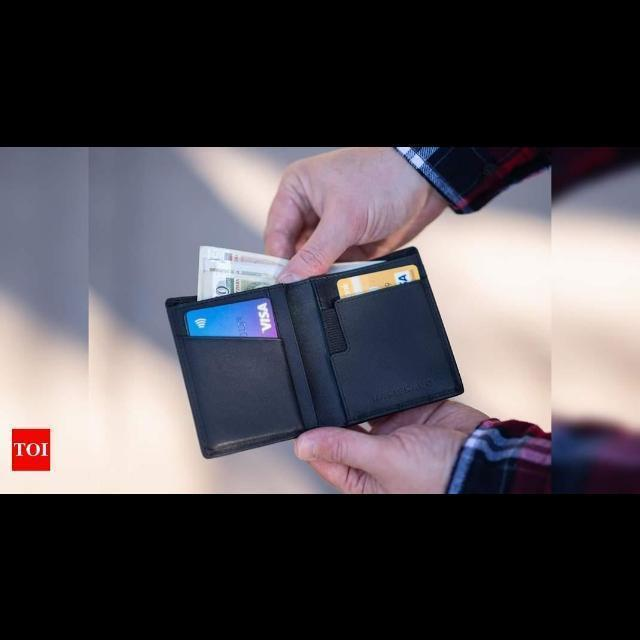wallet: (162, 246, 466, 458)
